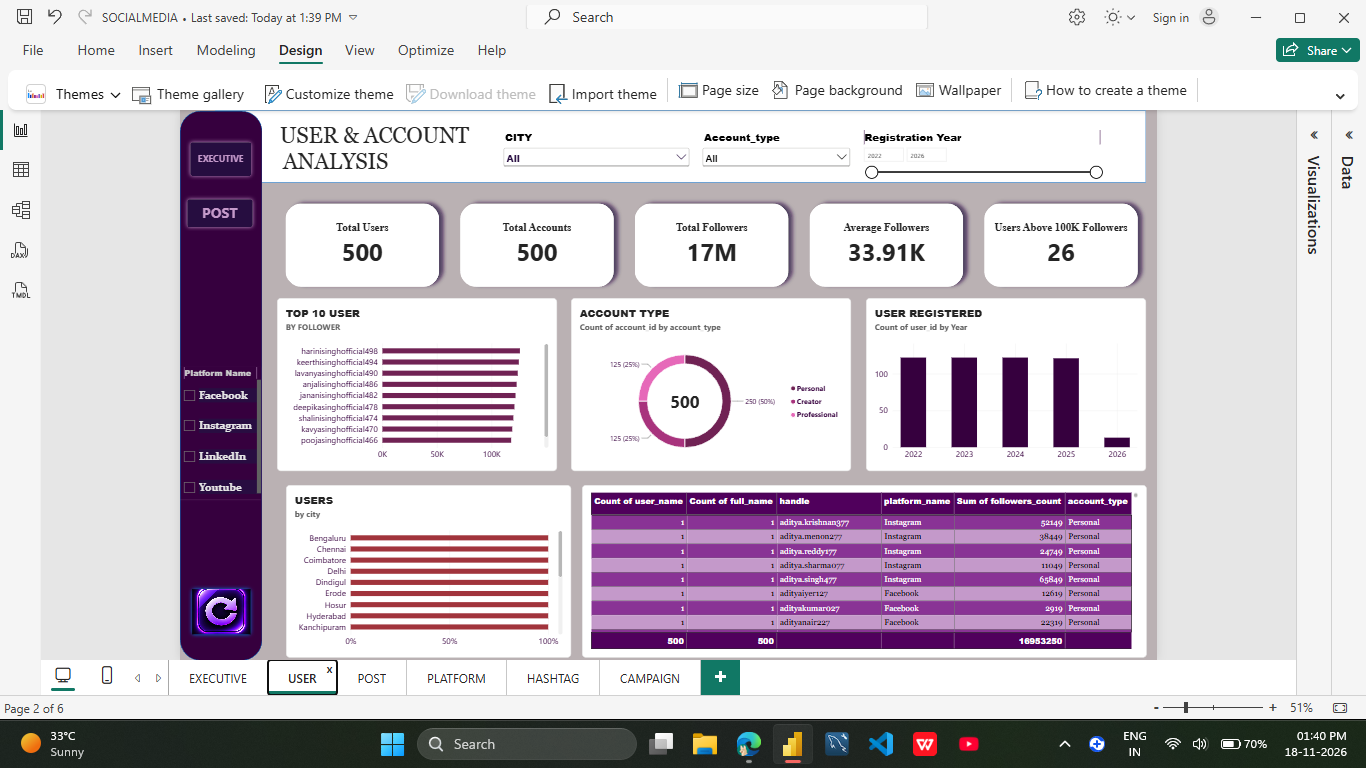

This screenshot's page, from the dashboard's own definition file:
{"tool":"powerbi","page":{"name":"USER","canvas":[1920,1080],"ordinal":1},"visuals":[{"type":"shape","box":[69.2,0,1828.5,142.9],"z":0,"group":"g1"},{"type":"cardVisual","fields":{"Data":["social_media users.Total Users","social_media useraccount.Total Accounts","social_media follows.Total Followers","social_media follows.Average Followers","social_media useraccount.Users Above 100K Followers"]},"box":[189.7,166.6,1707.2,197.4],"z":0},{"type":"group","id":"g1","title":"Group 1","box":[0,0,1897.7,1082],"z":1000},{"type":"shape","box":[0,2.8,161.5,1079.2],"z":1000,"group":"g1"},{"type":"clusteredBarChart","title":"TOP 10 USER","fields":{"Category":["social_media useraccount.handle"],"Y":["Sum(social_media useraccount.followers_count)"]},"box":[190,370,550,340],"z":2000},{"type":"actionButton","box":[15.6,933.2,130.7,105.1],"z":2008,"group":"g1"},{"type":"donutChart","title":"ACCOUNT TYPE","fields":{"Category":["social_media useraccount.account_type"],"Y":["CountNonNull(social_media useraccount.account_id)"]},"box":[767.5,370,550,340],"z":3000},{"type":"hundredPercentStackedBarChart","title":"USERS","fields":{"Category":["social_media users.city"],"Y":["CountNonNull(social_media users.user_id)"]},"box":[207.2,736.2,559.8,339.4],"z":4000},{"type":"clusteredColumnChart","title":"USER REGISTERED","fields":{"Category":["social_media users.created_at.Variation.Date Hierarchy.Year"],"Y":["CountNonNull(social_media users.user_id)"]},"box":[1347.5,370,550,340],"z":5000},{"type":"tableEx","fields":{"Values":["CountNonNull(social_media users.user_name)","CountNonNull(social_media users.full_name)","social_media useraccount.handle","social_media platforms.platform_name","Sum(social_media useraccount.followers_count)","social_media useraccount.account_type"]},"box":[789.1,736.2,1108.7,339.4],"z":6000},{"type":"slicer","fields":{"Values":["social_media users.Registration Year"]},"box":[1335.7,39.7,480.5,147.7],"z":7000},{"type":"actionButton","box":[11.2,55.8,136.2,82.6],"z":8000},{"type":"slicer","fields":{"Values":["social_media platforms.platform_name"]},"box":[0,504.6,158.7,260.1],"z":9000},{"type":"slicer","fields":{"Values":["social_media useraccount.account_type"]},"box":[1020.3,40.2,299.8,94.8],"z":10000},{"type":"slicer","fields":{"Values":["social_media users.city"]},"box":[629.6,40.2,375.1,116.1],"z":11000},{"type":"actionButton","box":[6.7,167.4,145.1,71.4],"z":12000},{"type":"textbox","box":[160.7,20.1,453.2,122.8],"z":13000}]}

Visuals, with their boxes on the page's 1920x1080 design canvas (x1, y1, x2, y2). These are canvas units, not pixel positions in the 1366x768 screenshot, which may show the page scaled, cropped or inside an application window:
shape: {"x1": 69, "y1": 0, "x2": 1898, "y2": 143}
cardVisual - social_media users.Total Users x social_media useraccount.Total Accounts: {"x1": 190, "y1": 167, "x2": 1897, "y2": 364}
"Group 1" group: {"x1": 0, "y1": 0, "x2": 1898, "y2": 1082}
shape: {"x1": 0, "y1": 3, "x2": 162, "y2": 1082}
"TOP 10 USER" clusteredBarChart: {"x1": 190, "y1": 370, "x2": 740, "y2": 710}
actionButton: {"x1": 16, "y1": 933, "x2": 146, "y2": 1038}
"ACCOUNT TYPE" donutChart: {"x1": 768, "y1": 370, "x2": 1318, "y2": 710}
"USERS" hundredPercentStackedBarChart: {"x1": 207, "y1": 736, "x2": 767, "y2": 1076}
"USER REGISTERED" clusteredColumnChart: {"x1": 1348, "y1": 370, "x2": 1898, "y2": 710}
tableEx - CountNonNull(social_media users.user_name) x CountNonNull(social_media users.full_name): {"x1": 789, "y1": 736, "x2": 1898, "y2": 1076}
slicer - social_media users.Registration Year: {"x1": 1336, "y1": 40, "x2": 1816, "y2": 187}
actionButton: {"x1": 11, "y1": 56, "x2": 147, "y2": 138}
slicer - social_media platforms.platform_name: {"x1": 0, "y1": 505, "x2": 159, "y2": 765}
slicer - social_media useraccount.account_type: {"x1": 1020, "y1": 40, "x2": 1320, "y2": 135}
slicer - social_media users.city: {"x1": 630, "y1": 40, "x2": 1005, "y2": 156}
actionButton: {"x1": 7, "y1": 167, "x2": 152, "y2": 239}
textbox: {"x1": 161, "y1": 20, "x2": 614, "y2": 143}
